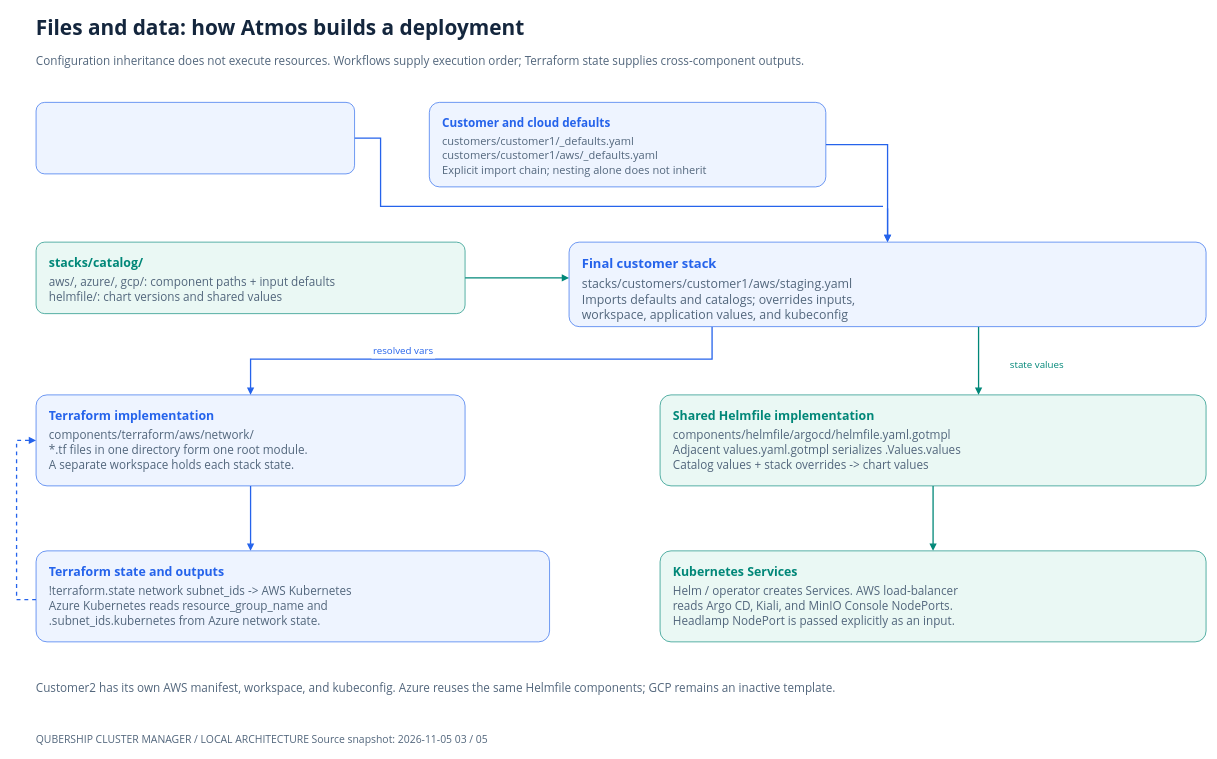
Image size: 1217x759. Some labels were removed from this diagram. The shapes that lost their labels are listed below. From the top down, each one's centre as x and y in pixels, then its label:
point 195,138: atmos.yaml Component / stack / workflow discovery Stack name: tenant-cloud-stage
point 907,199: discovery
point 516,267: import
